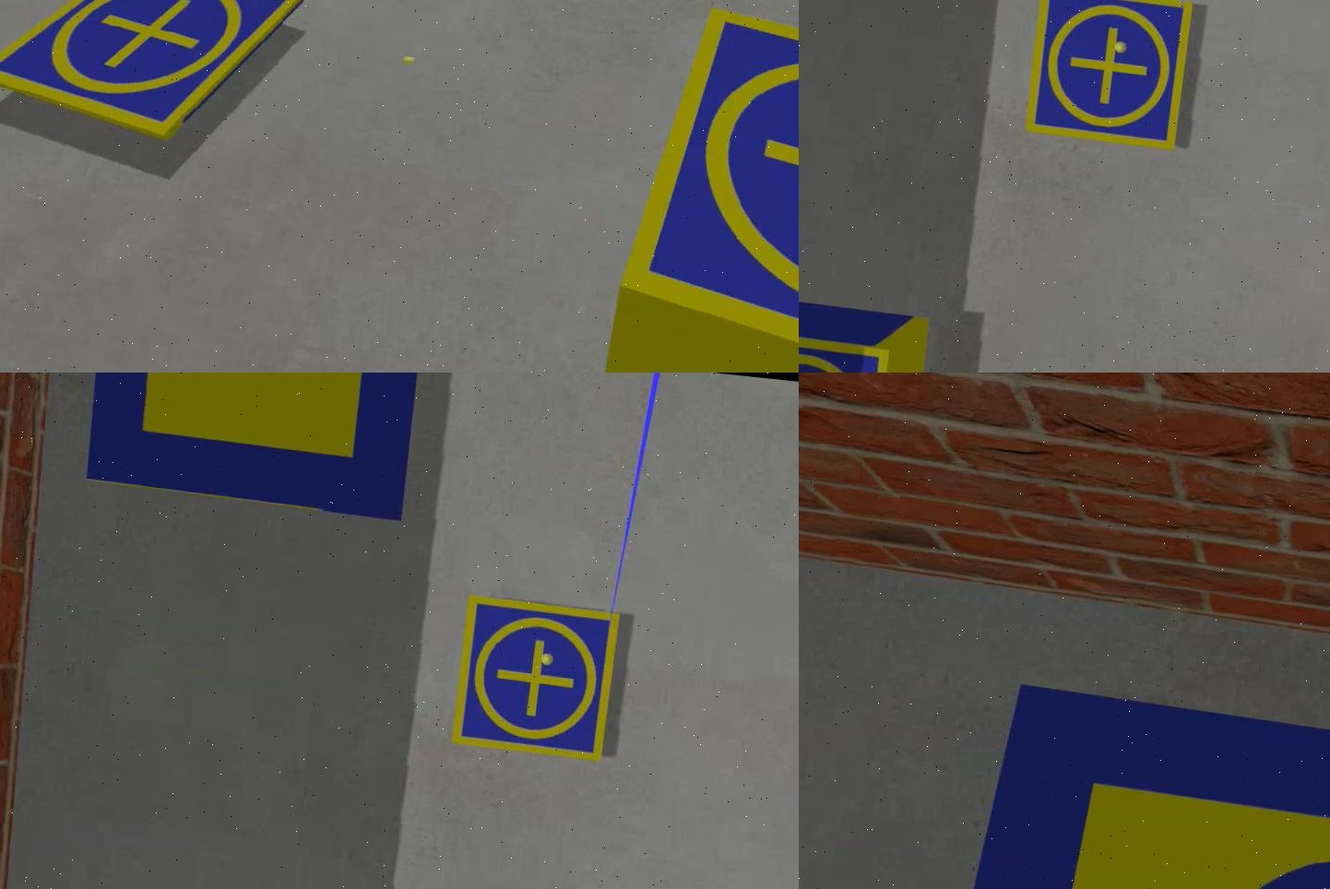large_base: (915, 679, 1328, 889), (83, 373, 428, 524)
small_base: (604, 2, 797, 373), (0, 1, 303, 152), (448, 594, 620, 765), (1024, 1, 1193, 155)
